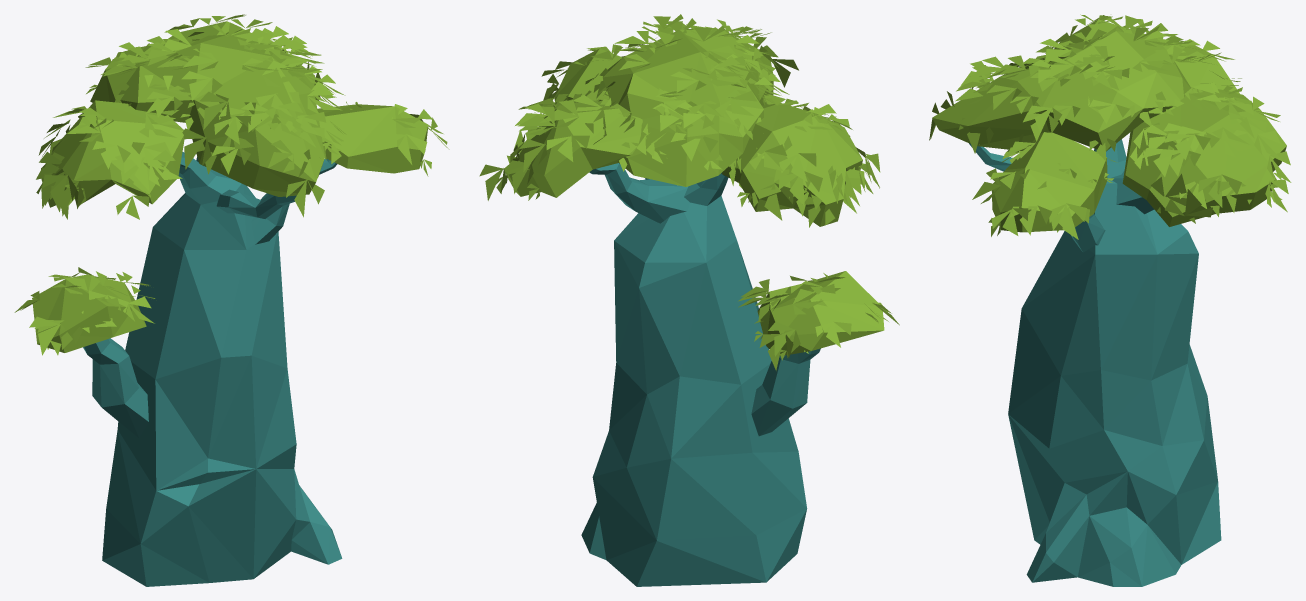
Rendered from tree-baobab-young-b.fbx.
3 renders of one model, left to right at view 1: azimuth 30°, elevation 25°; view 2: azimuth 150°, elevation 25°; view 3: azimuth 270°, elevation 25°, orthographic.
Parts seen in each view (by area): view 1: tree-baobab-young-b; view 2: tree-baobab-young-b; view 3: tree-baobab-young-b.
Part boxes in pixels (x1=…): tree-baobab-young-b: x1=14, y1=14, x2=449, y2=586; tree-baobab-young-b: x1=479, y1=14, x2=899, y2=586; tree-baobab-young-b: x1=929, y1=14, x2=1291, y2=586.
Size of the model in its own units: 3.11 by 3.95 by 2.57.
